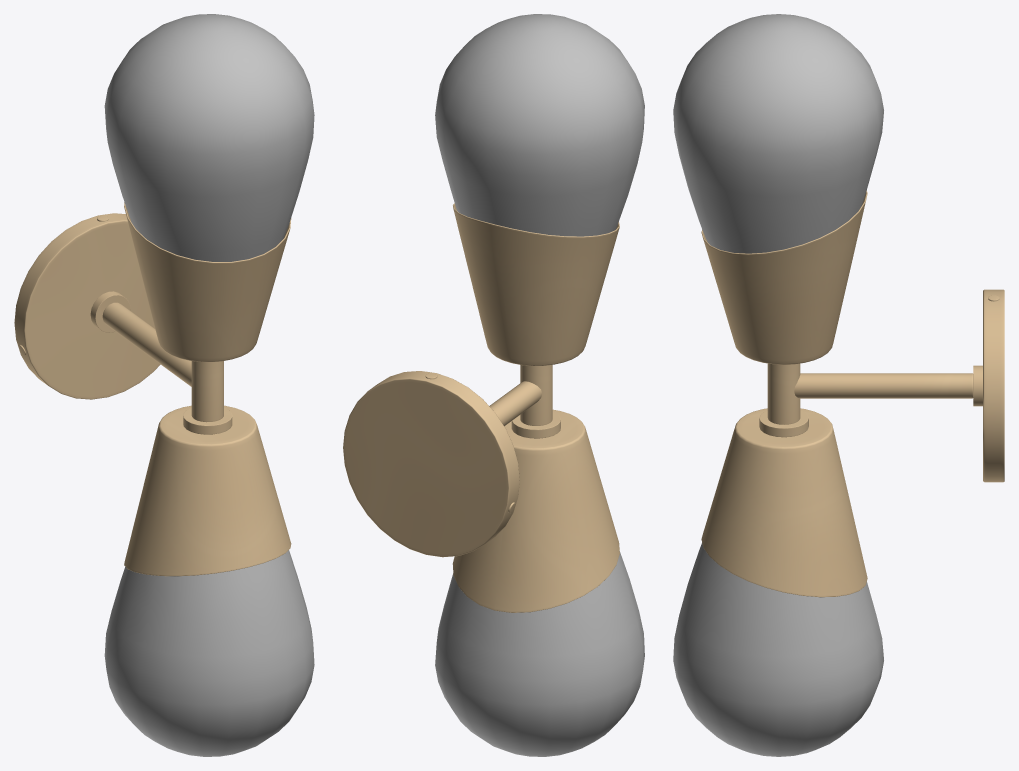
File: Sconce2502653.glb
3 views of the same model, side by side, from view 1: azimuth 30°, elevation 25°; view 2: azimuth 150°, elevation 25°; view 3: azimuth 270°, elevation 25° (orthographic).
Parts seen in each view (by area): view 1: Sconce2502653; view 2: Sconce2502653; view 3: Sconce2502653.
Part boxes in pixels (bbox=[...]): Sconce2502653: bbox=[14, 14, 314, 756]; Sconce2502653: bbox=[343, 14, 644, 756]; Sconce2502653: bbox=[673, 14, 1004, 756].
Bounding box in the file's own units: 0.1276 × 0.4825 × 0.2005.
2 materials, 1 textured.
